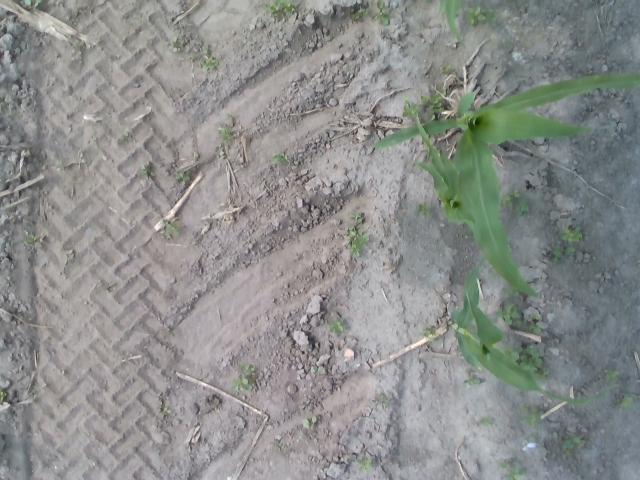Maize: (371, 70, 640, 298), (446, 256, 618, 408), (413, 111, 482, 239), (438, 0, 462, 45)
Weeds: (498, 342, 550, 379), (420, 90, 447, 120), (344, 226, 369, 257), (498, 454, 524, 480), (495, 303, 522, 327), (466, 6, 496, 26), (262, 0, 296, 16), (520, 402, 542, 426), (558, 224, 584, 244), (550, 242, 575, 262), (498, 188, 522, 207), (402, 96, 419, 122), (563, 436, 584, 457), (22, 230, 42, 250), (374, 0, 389, 26), (230, 374, 252, 391), (419, 324, 438, 342), (164, 220, 181, 240), (526, 313, 542, 334), (218, 124, 234, 144), (349, 6, 370, 20), (514, 198, 530, 216), (192, 44, 210, 60), (199, 56, 219, 70), (168, 36, 184, 52), (374, 392, 390, 408), (617, 394, 633, 410), (326, 318, 344, 332), (414, 202, 432, 216), (173, 170, 190, 184), (356, 457, 372, 471), (606, 368, 620, 384), (502, 286, 520, 298), (302, 415, 318, 428), (348, 211, 364, 223), (272, 152, 288, 164), (138, 163, 150, 179), (464, 376, 481, 386), (238, 364, 255, 374), (479, 416, 494, 426), (488, 266, 498, 278), (22, 0, 42, 6), (0, 386, 7, 403), (311, 365, 324, 374), (74, 40, 84, 51), (215, 149, 226, 158), (441, 63, 452, 72), (162, 406, 171, 415), (463, 228, 473, 236), (119, 132, 129, 140)
